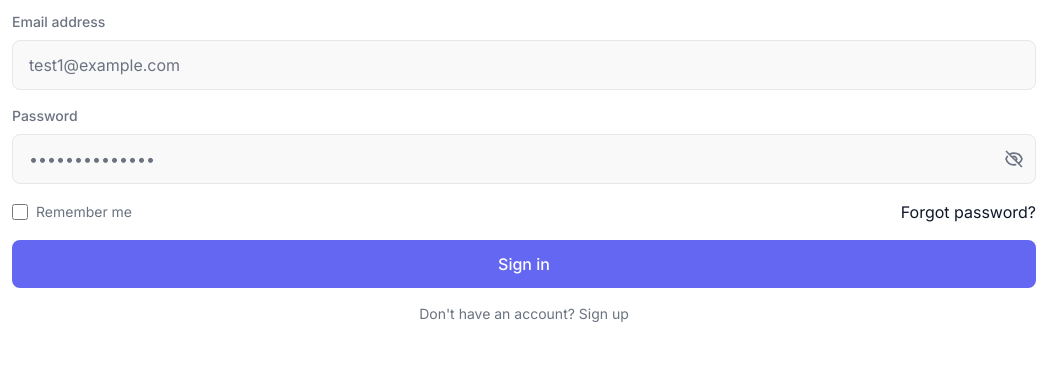
Test: LoginForm › should show an email validation error when the form is submitted with an empty email
This screenshot has width=1048, height=387.
What coordinates should you click on to do the following:
click the button "Sign in"
I would click on:
 (524, 264)
Its box is top-left (12, 240), bottom-right (1036, 288).
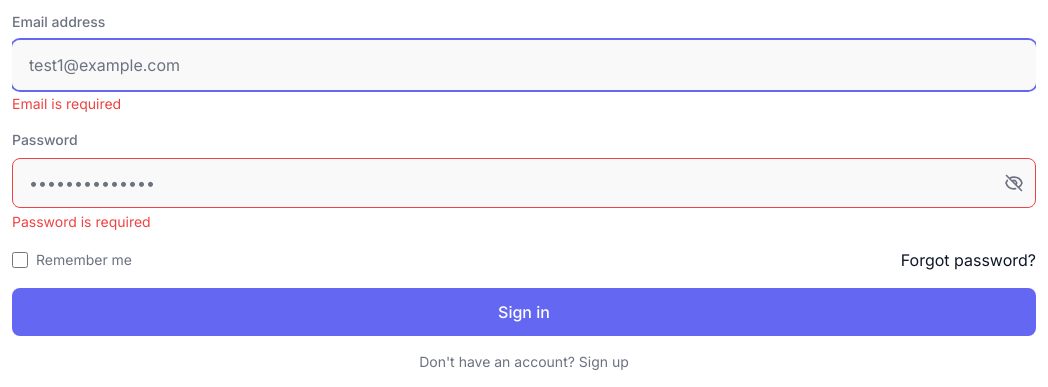
Now the text "Email is required" is shown, box top-left (12, 95), bottom-right (121, 112)
